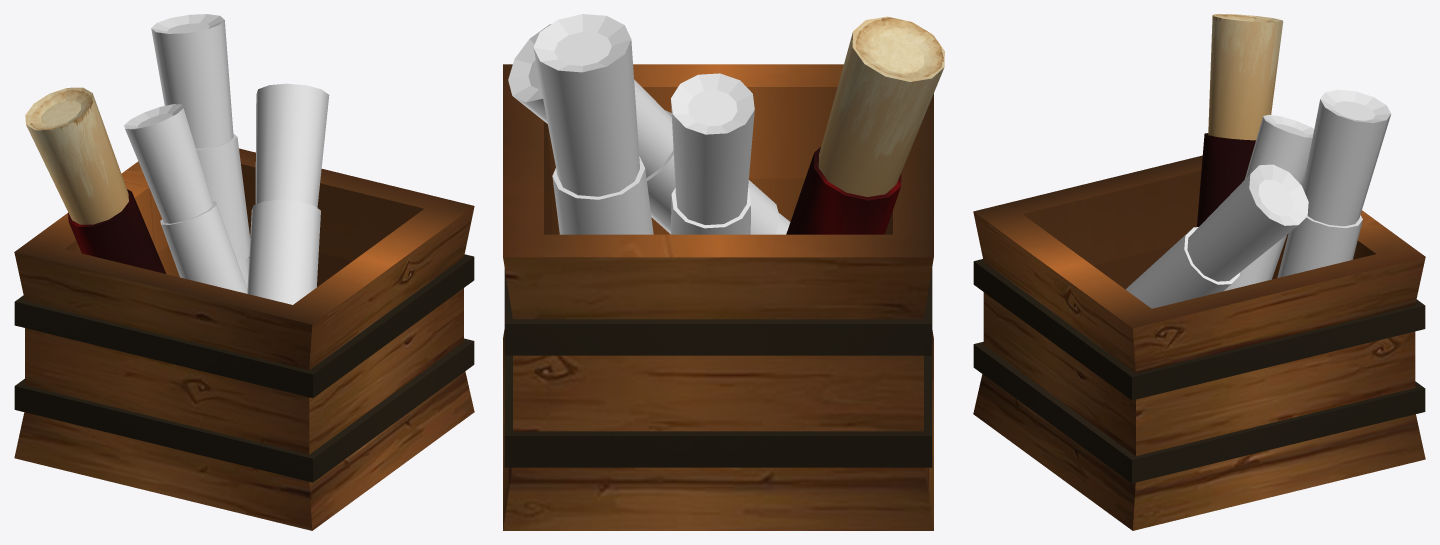
File: BoxofScrolls.fbx
3 views of the same model, side by side, from view 1: azimuth 30°, elevation 25°; view 2: azimuth 150°, elevation 25°; view 3: azimuth 270°, elevation 25° (orthographic). The views are drawn at different scales.
Visible parts, largest first — view 1: Box032, Cylinder053, Cylinder050, Cylinder054, Cylinder055; view 2: Box032, Cylinder050, Cylinder054, Cylinder055, Cylinder053; view 3: Box032, Cylinder054, Cylinder053, Cylinder050, Cylinder055.
Boxes of the visible parts, <box> form: Box032: <box>14,148,474,530</box>; Cylinder053: <box>247,83,329,304</box>; Cylinder050: <box>25,87,165,273</box>; Cylinder054: <box>151,14,250,288</box>; Cylinder055: <box>124,104,247,293</box>; Box032: <box>503,64,933,530</box>; Cylinder050: <box>786,16,944,234</box>; Cylinder054: <box>533,14,653,234</box>; Cylinder055: <box>671,73,754,234</box>; Cylinder053: <box>508,24,790,234</box>; Box032: <box>973,155,1425,530</box>; Cylinder054: <box>1277,89,1391,277</box>; Cylinder053: <box>1126,164,1308,308</box>; Cylinder050: <box>1197,14,1283,226</box>; Cylinder055: <box>1224,114,1314,290</box>.
Bounding box in the file's own units: 2.43 × 2.47 × 2.13.
